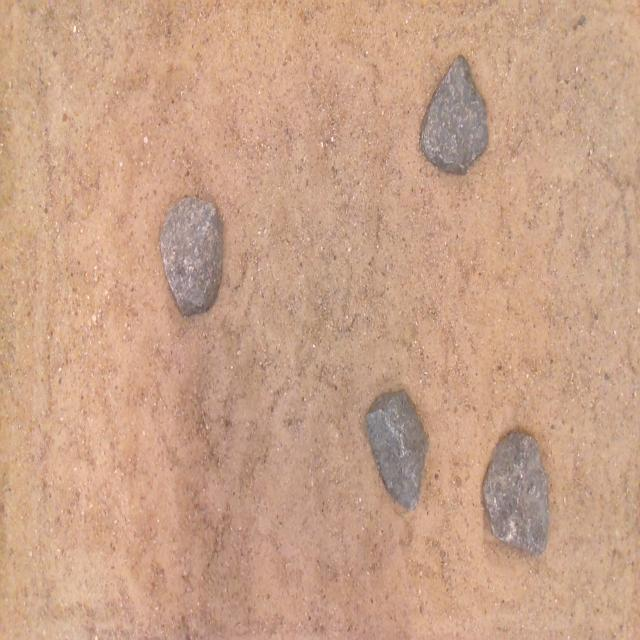rock: (420, 56, 488, 174), (483, 433, 549, 553), (160, 198, 222, 315), (366, 391, 428, 508)
